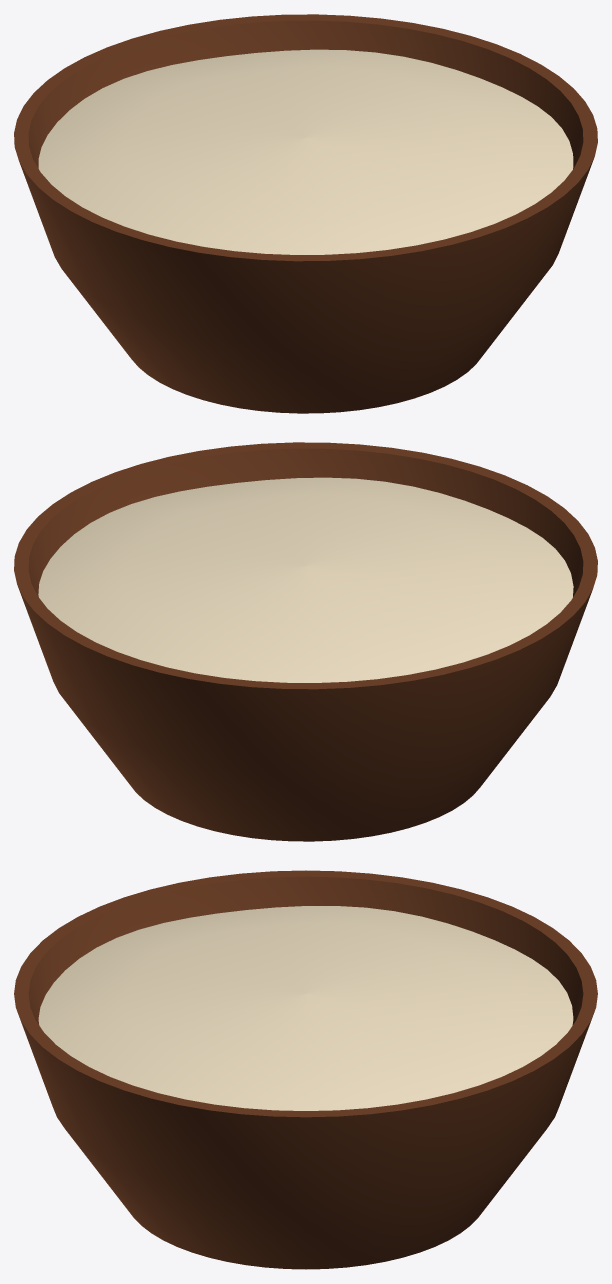
The model's file is cumbuca-creme.glb.
The picture shows the model from 3 angles, top to bottom: view 1: azimuth 30°, elevation 25°; view 2: azimuth 150°, elevation 25°; view 3: azimuth 270°, elevation 25°; orthographic projection.
Visible parts, largest first — view 1: cumbuca-creme; view 2: cumbuca-creme; view 3: cumbuca-creme.
Boxes of the visible parts, x1,y1,x2,y2 form: cumbuca-creme: [14, 14, 597, 413]; cumbuca-creme: [14, 442, 597, 841]; cumbuca-creme: [14, 870, 597, 1269].
Bounding box in the file's own units: 0.16 × 0.06 × 0.16.
